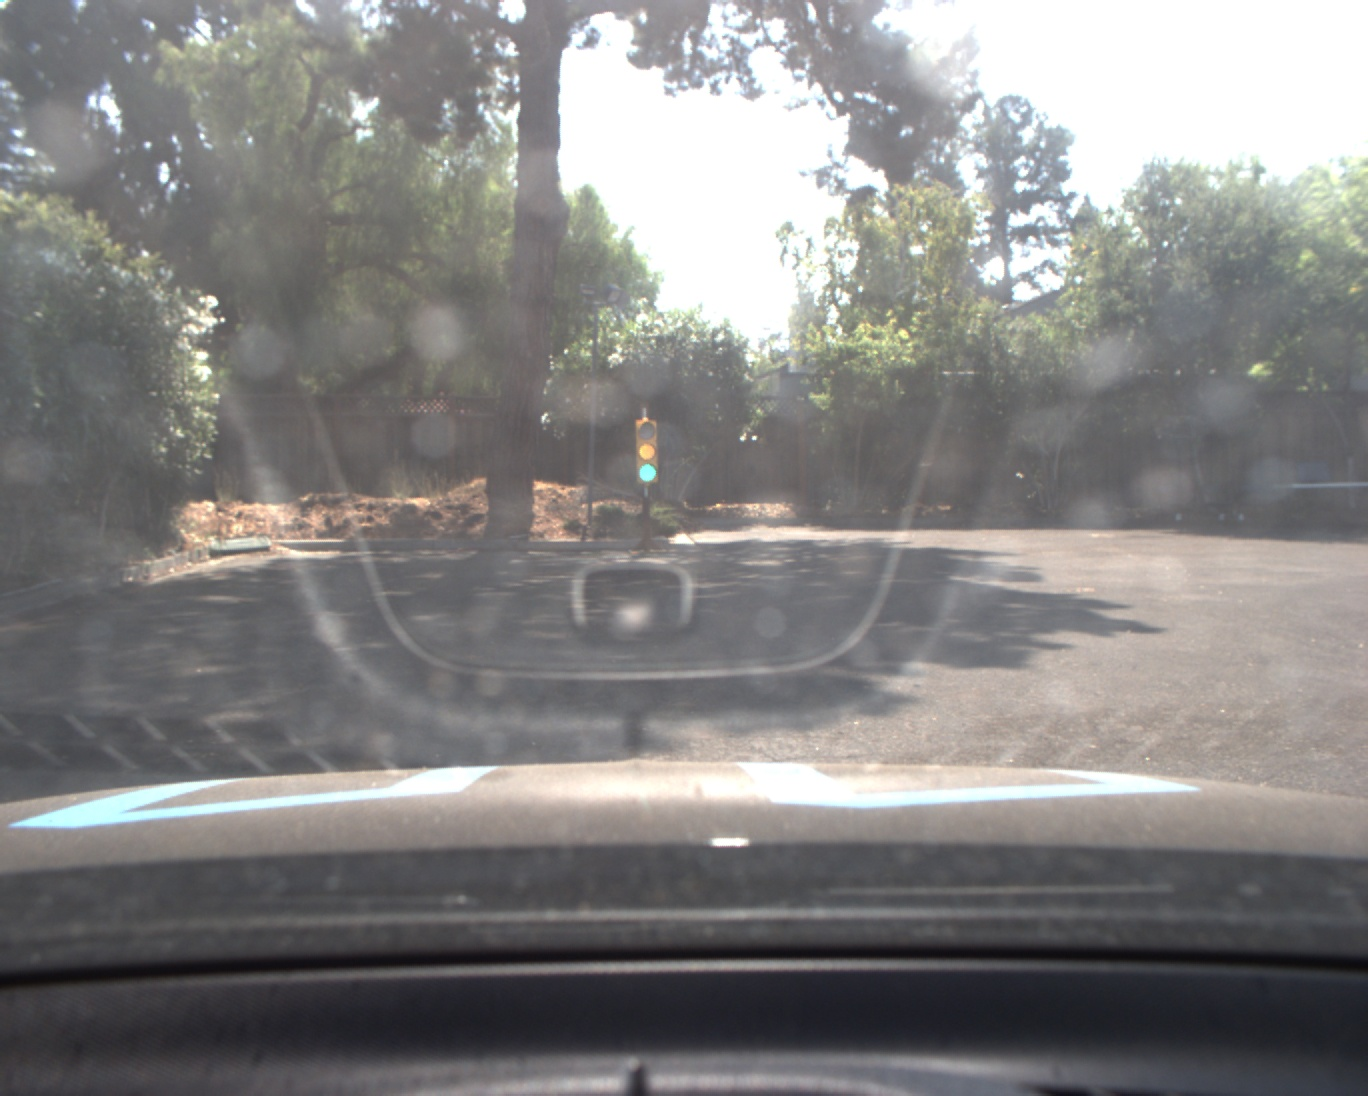green: (635, 417, 659, 485)
yellow: (635, 418, 660, 486)
